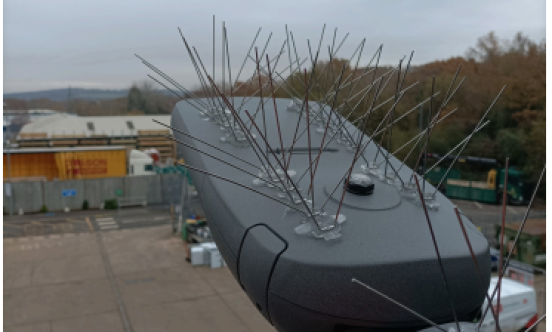Top_Street_Light: (170, 94, 514, 328)
